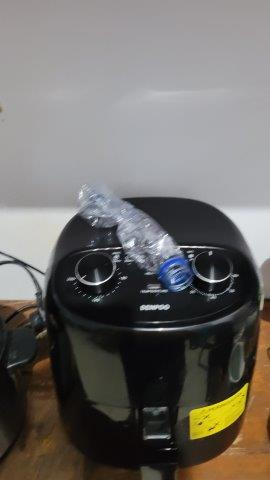botolplastik: (75, 181, 193, 291)
